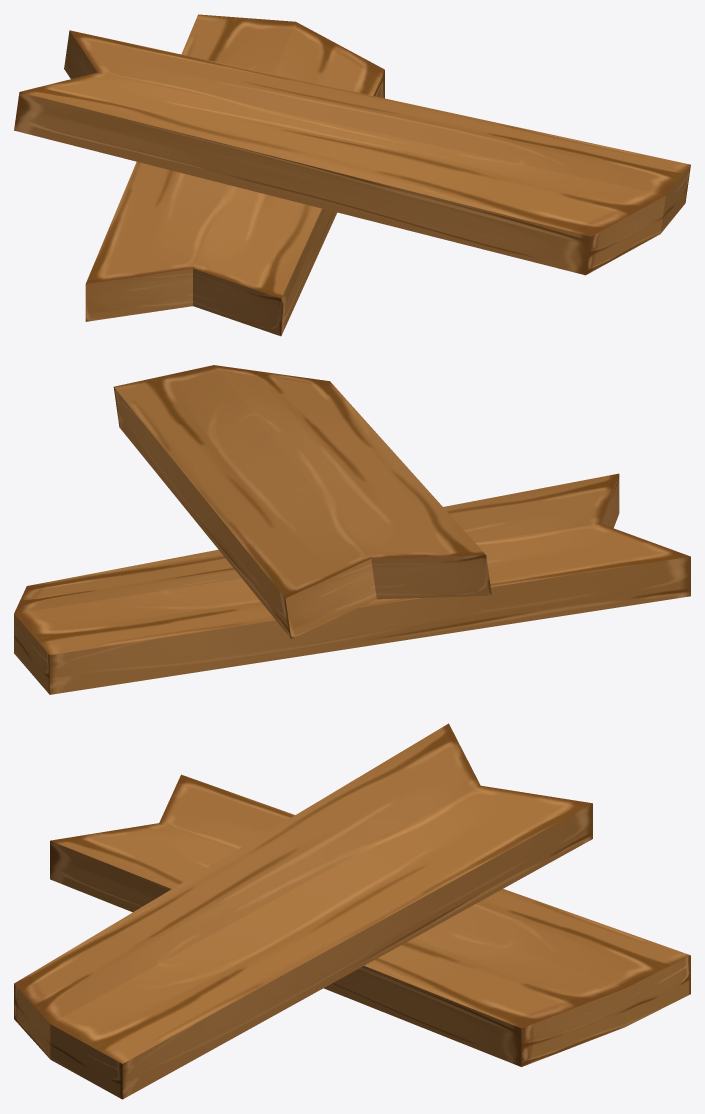
File: CrateDestroyed.glb
3 renders of one model, top to bottom at view 1: azimuth 30°, elevation 25°; view 2: azimuth 150°, elevation 25°; view 3: azimuth 270°, elevation 25°, orthographic. The views are drawn at different scales.
Parts seen in each view (by area): view 1: Cube.001; view 2: Cube.001; view 3: Cube.001.
Boxes of the visible parts, <box> form: Cube.001: <box>14,14,690,336</box>; Cube.001: <box>14,365,690,694</box>; Cube.001: <box>14,723,690,1099</box>.
Size of the model in its own units: 0.8686 by 0.2002 by 0.8596.
Materials: 1 (1 with a texture image).
